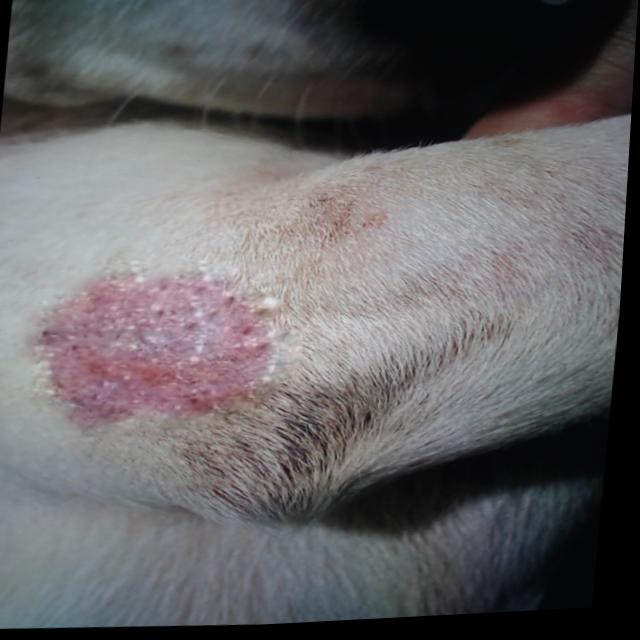ringworm: (24, 250, 297, 448)
